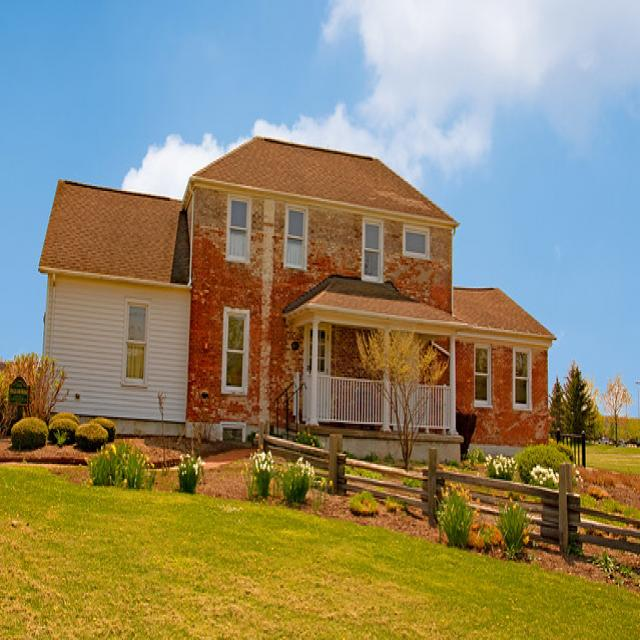Normal_building: (30, 132, 559, 468)
